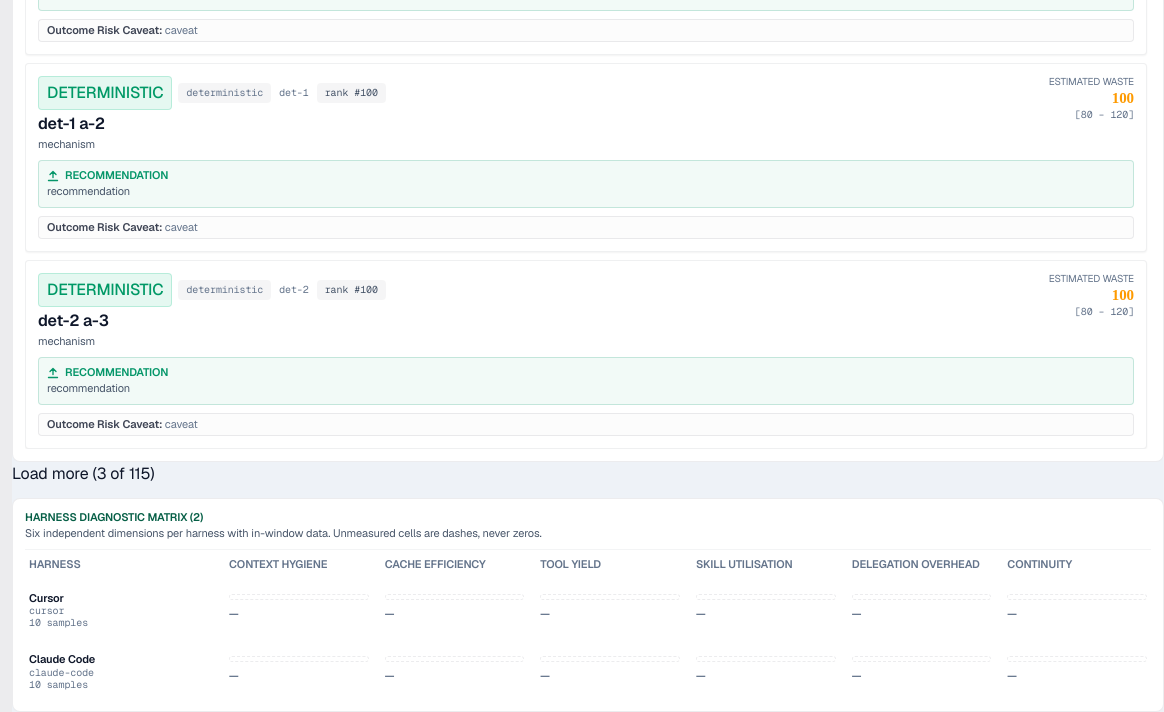
ContextDoctor paging — rendered (F2/F3) › requests the offset the server served, not the rows painted
The width and height of the screenshot is (1164, 712).
(page scrolled)
Click the button with test id "findings-load-more" at (83, 474), box left=12, top=462, right=154, bottom=486
(page scrolled)
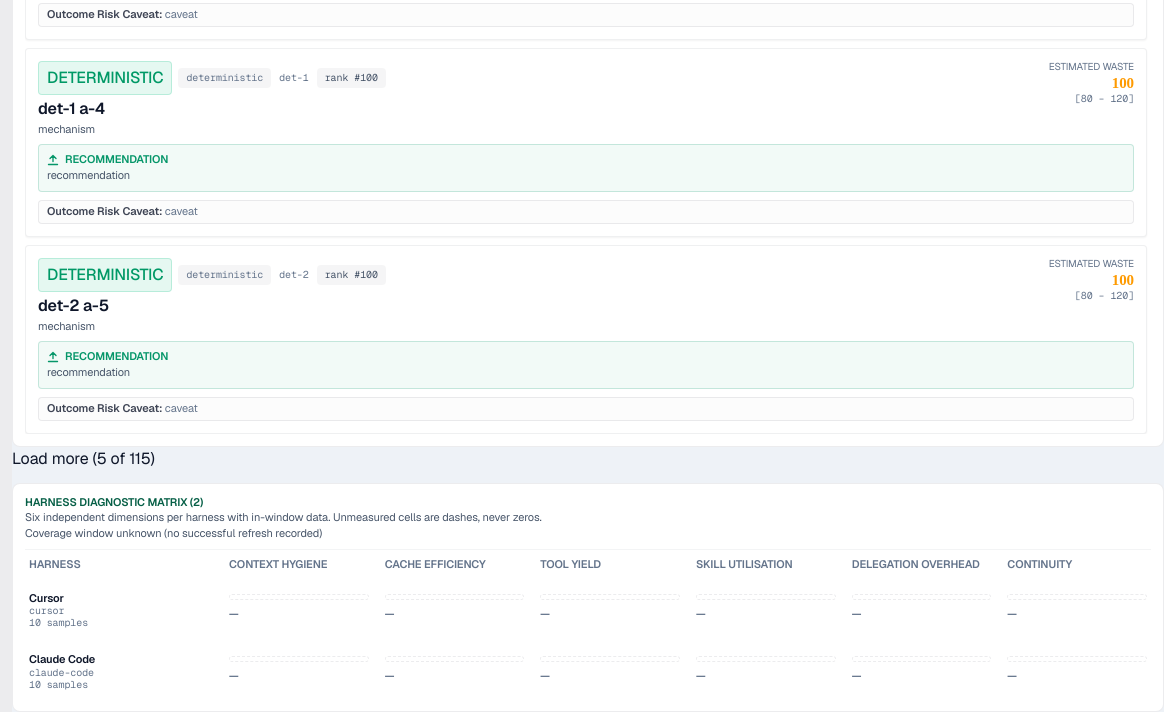
Check: the element with test id "finding-card-a-5" is shown, box left=25, top=244, right=1147, bottom=434
Click the button with test id "findings-load-more" at (83, 458), box left=12, top=446, right=155, bottom=470
(page scrolled)
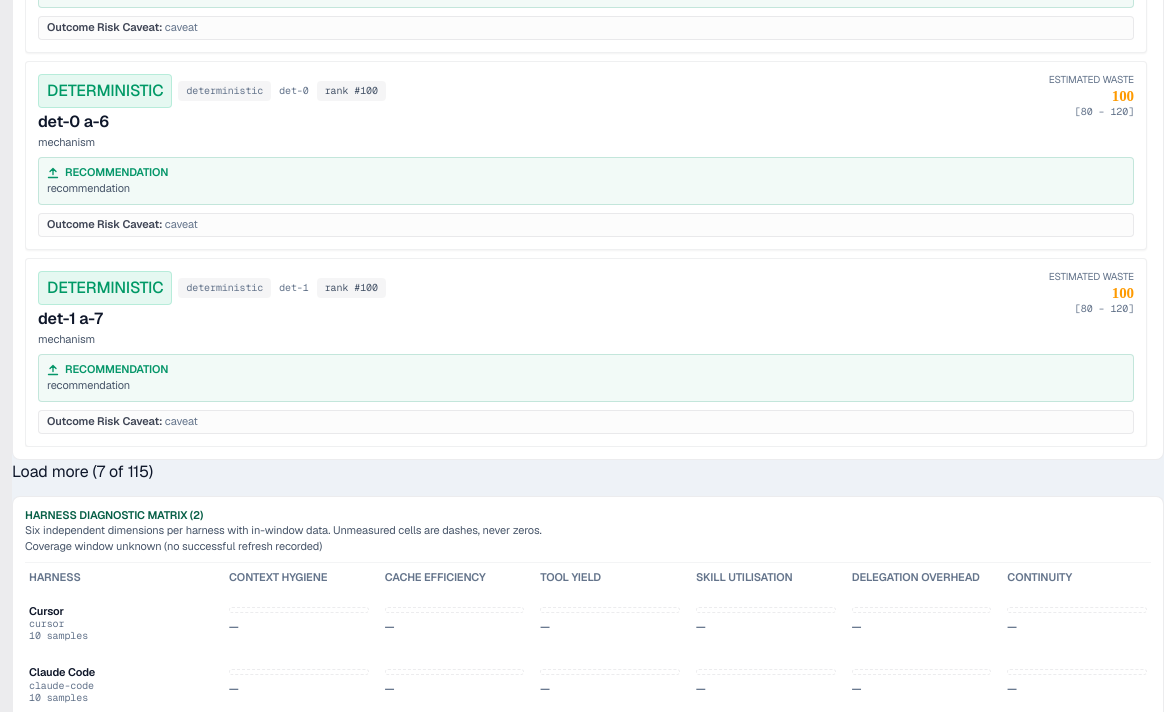
Check: the element with test id "finding-card-a-7" is shown, box left=25, top=258, right=1147, bottom=446
